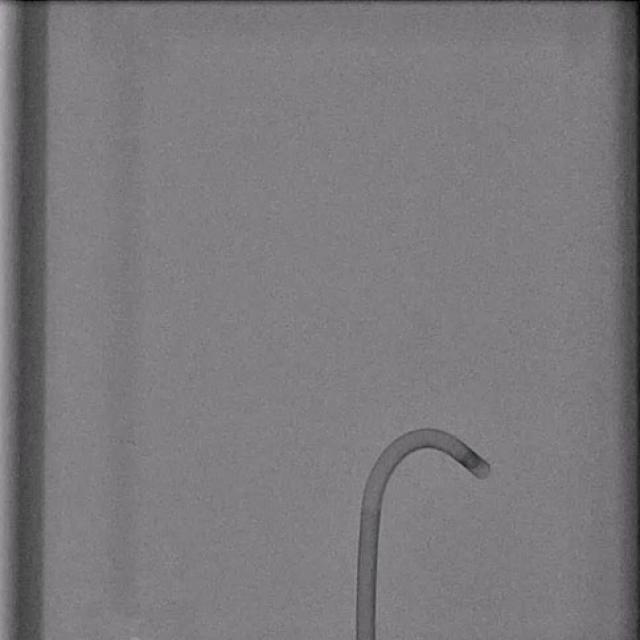bend: (360, 496, 382, 512)
entry: (357, 635, 374, 640)
marker: (462, 452, 483, 471)
tip: (477, 466, 493, 482)
